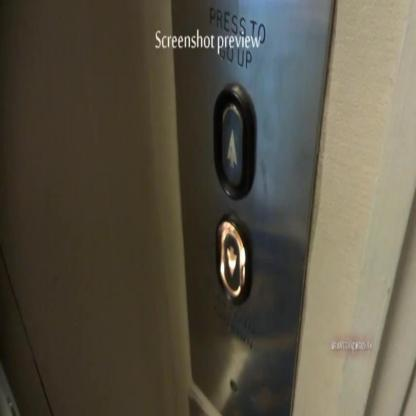down: (216, 210, 253, 307)
up: (213, 83, 256, 201)
